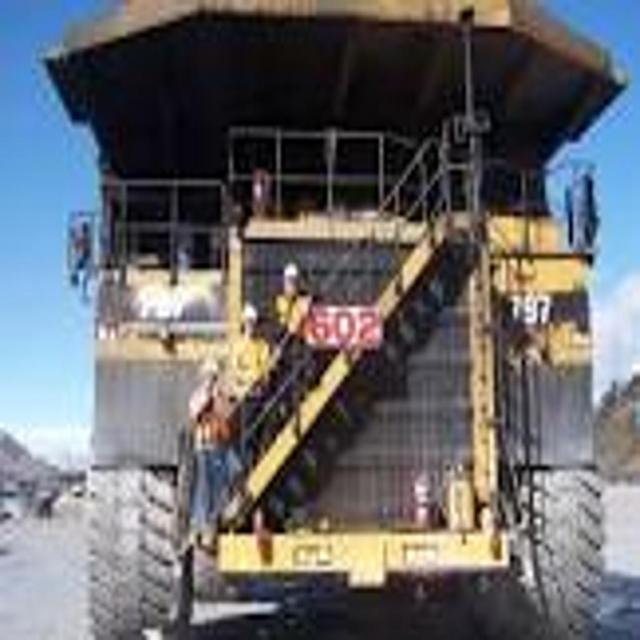dump_truck: (49, 0, 624, 640)
